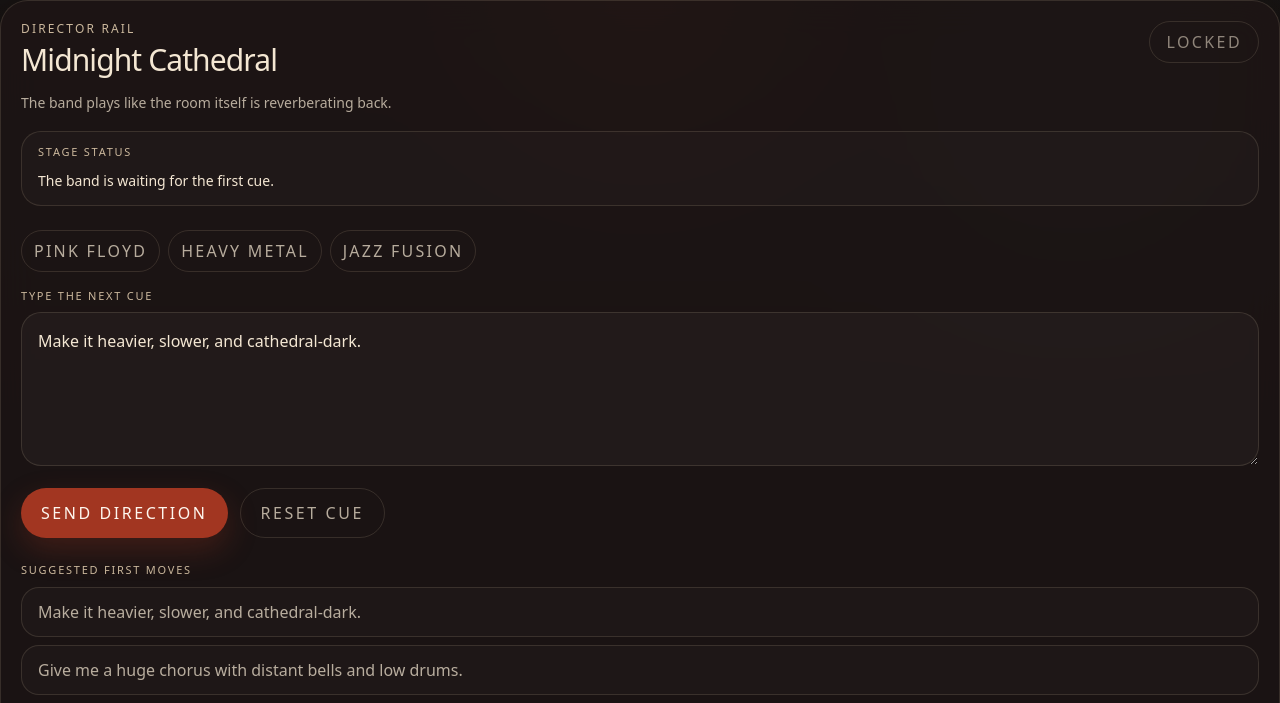
Test case: PromptRail › resets the cue back to the theme default direction
This screenshot has width=1280, height=703.
Replace the text in the text box with "Make it brutal." at point(640, 389), box left=21, top=312, right=1259, bottom=466
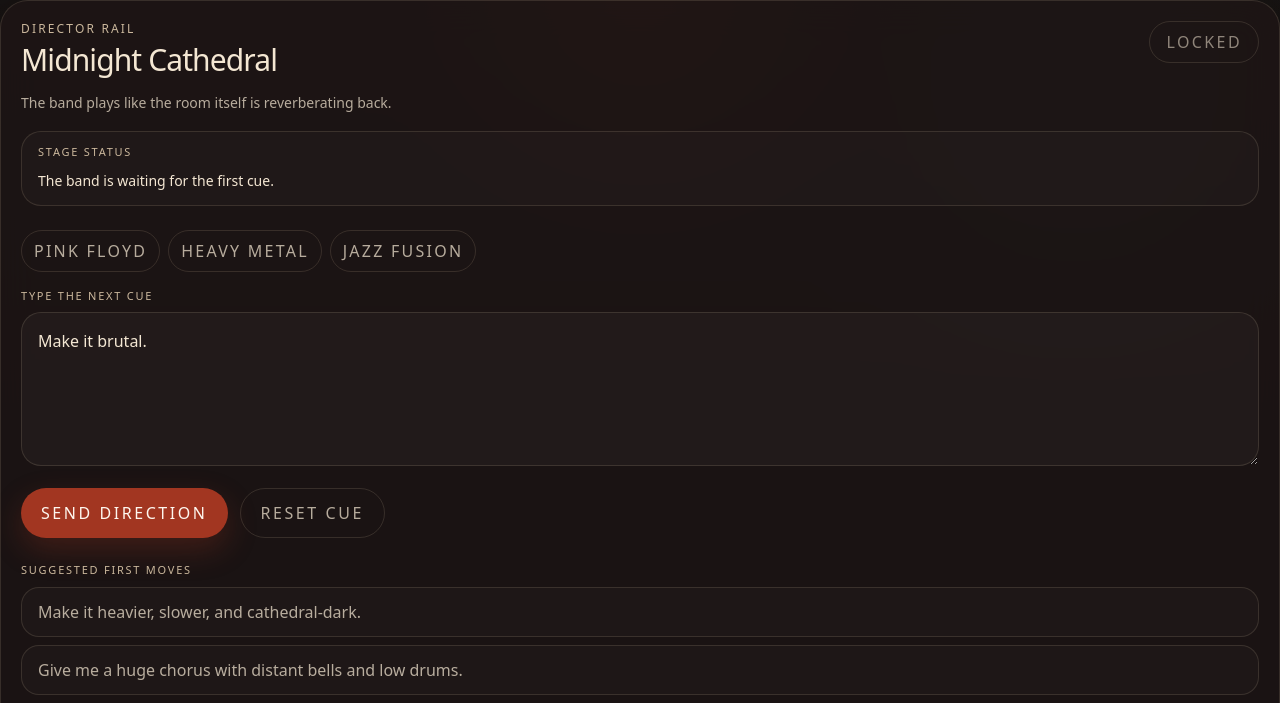
Click the button "Reset cue" at point(312, 513), box left=240, top=488, right=385, bottom=538
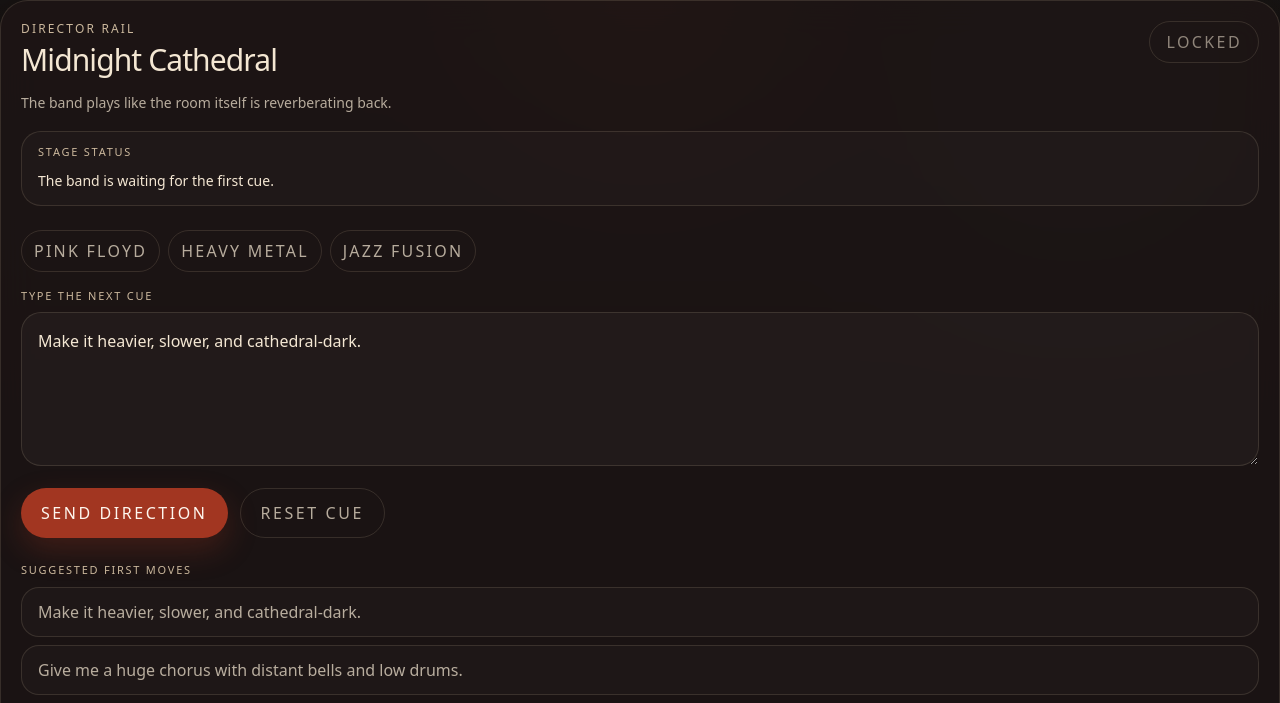
Result: the text box holds "Make it heavier, slower, and cathedral-dark." at left=21, top=312, right=1259, bottom=466
